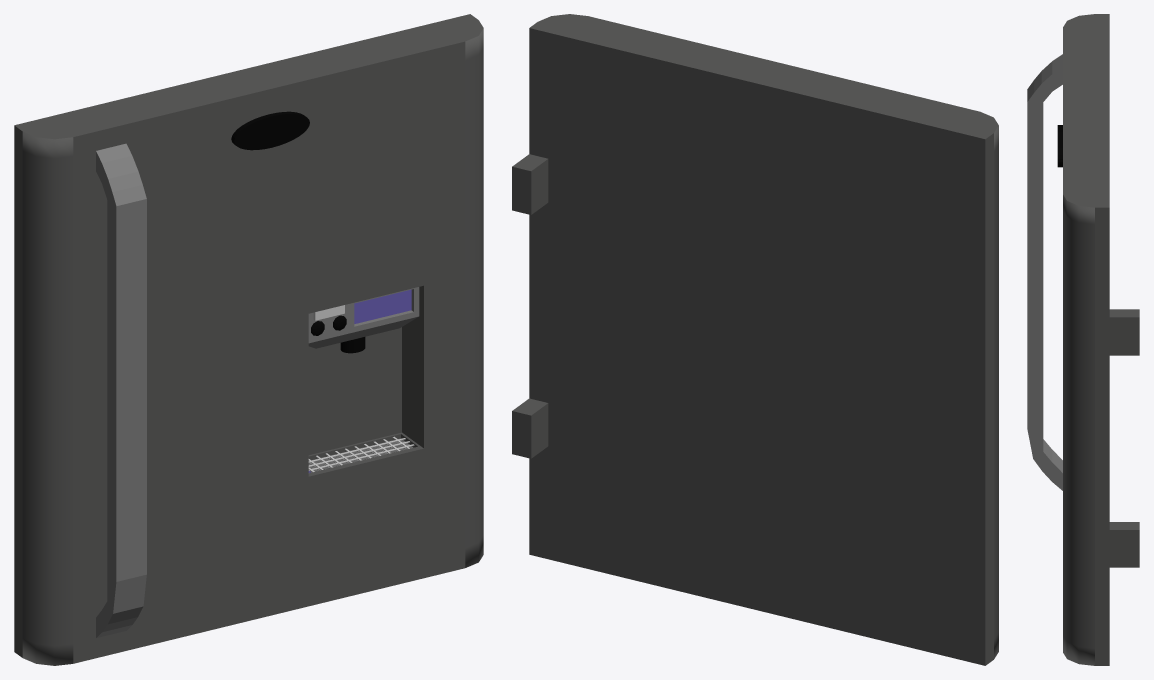
Rendered from _ridge_Door.fbx.
The picture shows the model from 3 angles, left to right: view 1: azimuth 30°, elevation 25°; view 2: azimuth 150°, elevation 25°; view 3: azimuth 270°, elevation 25°; orthographic projection. The views are drawn at different scales.
Parts seen in each view (by area): view 1: Cylinder.043; view 2: Cylinder.043; view 3: Cylinder.043.
Boxes of the visible parts, box(x1,y1,x2,y2) form: Cylinder.043: box(14, 14, 483, 665); Cylinder.043: box(512, 14, 998, 665); Cylinder.043: box(1027, 14, 1139, 665).
Size of the model in its own units: 123 by 135 by 30.07.
